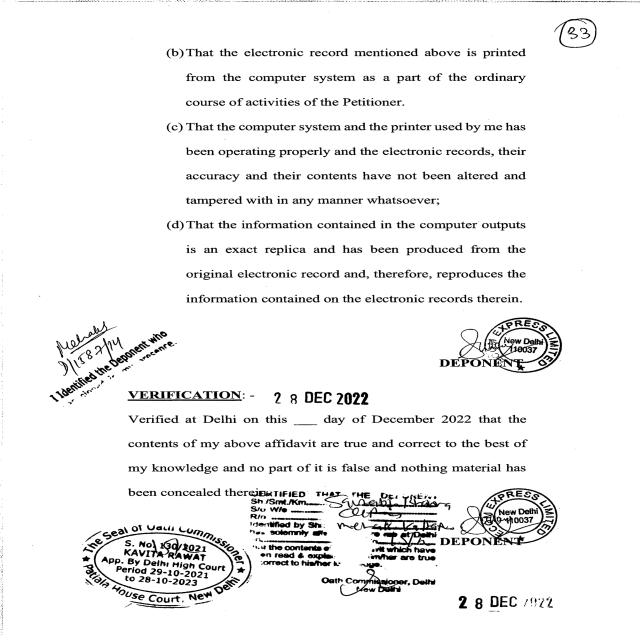page-number: (527, 7, 640, 108)
